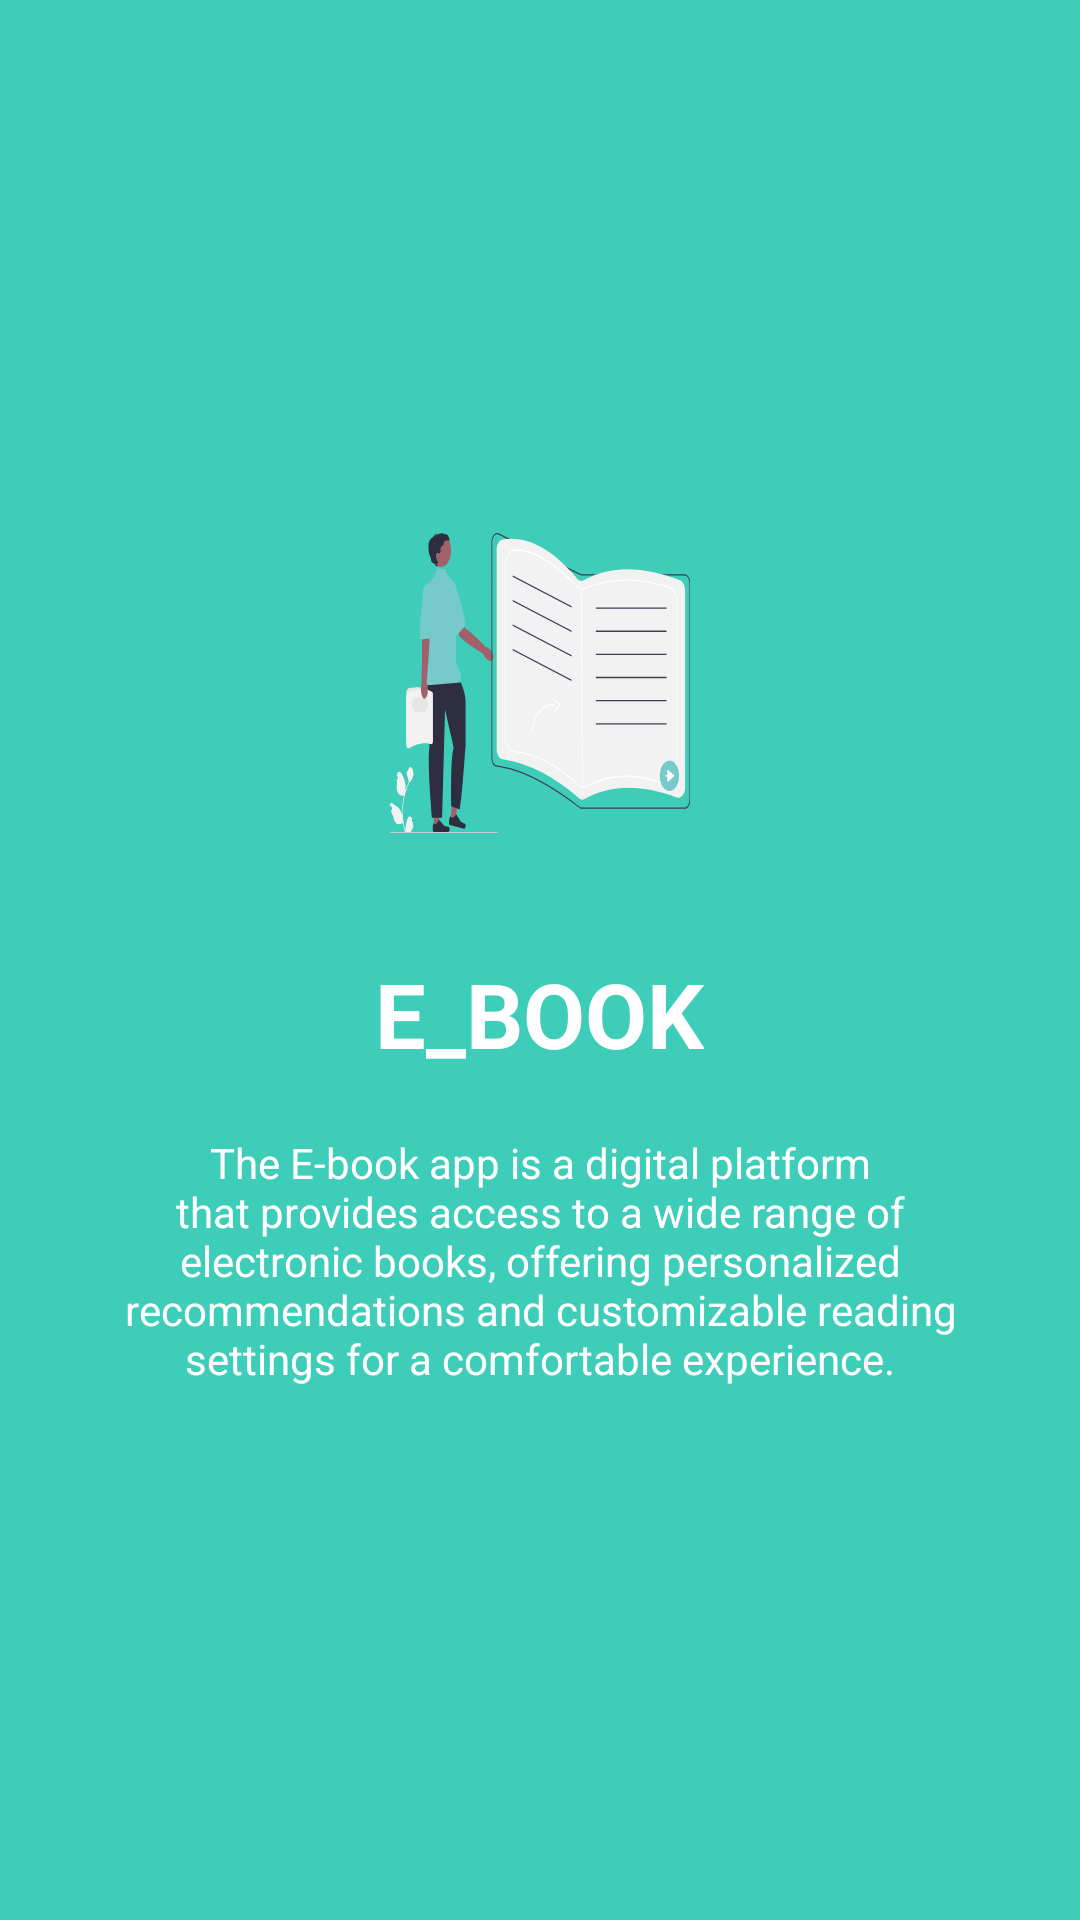

Icon bounding boxes for this 1080w x 1920h phone screenshot, format (x1, y1, x2, y2):
books re: (390, 533, 690, 833)
